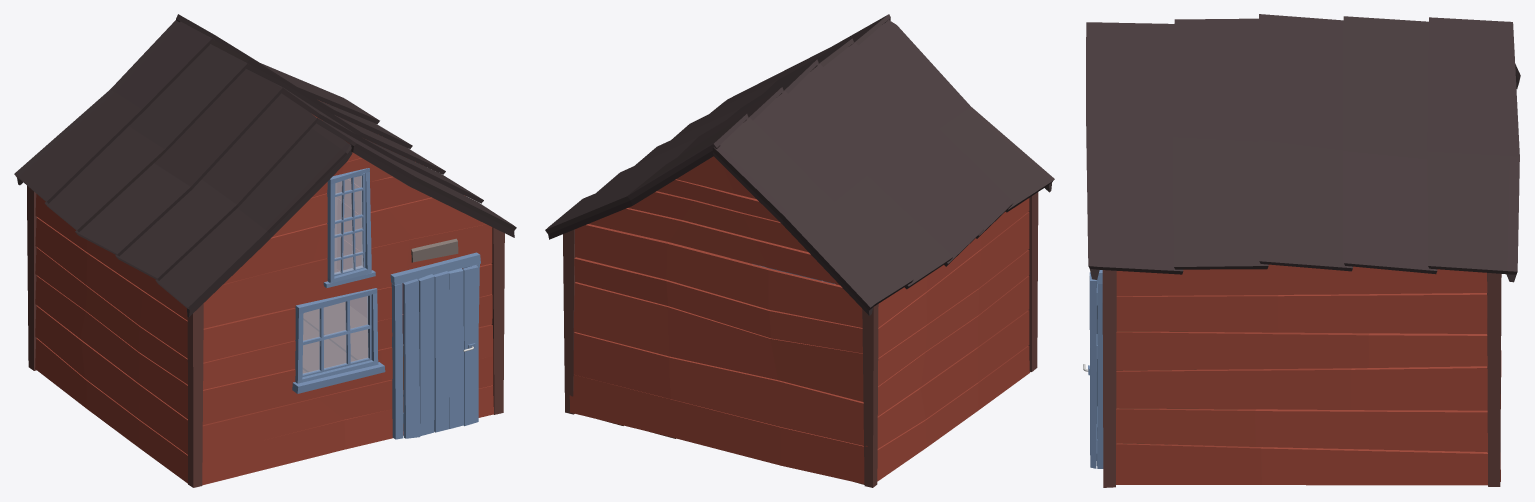
The model's file is WoodShack.fbx.
3 renders of one model, left to right at view 1: azimuth 30°, elevation 25°; view 2: azimuth 150°, elevation 25°; view 3: azimuth 270°, elevation 25°, orthographic. The views are drawn at different scales.
Visible parts, largest first — view 1: roof, woodFront, woodSides, Door, pilars, glass Bottom, woodSides.001, Cube.002, Cube.003, glassTop, Cube.005, Cube.007 (+3 smaller); view 2: woodBack, roof, woodSides, pilars; view 3: roof, woodSides, pilars, Door, Cube.002.
Boxes of the visible parts, left/top/right/bottom form: roof: left=14, top=14, right=516, bottom=317; woodFront: left=202, top=152, right=493, bottom=485; woodSides: left=35, top=138, right=464, bottom=483; Door: left=403, top=265, right=478, bottom=438; pilars: left=27, top=183, right=504, bottom=487; glass Bottom: left=302, top=296, right=368, bottom=373; woodSides.001: left=303, top=302, right=403, bottom=430; Cube.002: left=390, top=252, right=480, bottom=439; Cube.003: left=295, top=288, right=378, bottom=383; glassTop: left=334, top=175, right=363, bottom=273; Cube.005: left=327, top=168, right=371, bottom=283; Cube.007: left=334, top=173, right=365, bottom=276; woodBack: left=569, top=156, right=867, bottom=483; roof: left=545, top=14, right=1054, bottom=315; woodSides: left=712, top=198, right=1030, bottom=481; pilars: left=563, top=192, right=1038, bottom=487; roof: left=1086, top=14, right=1520, bottom=282; woodSides: left=1116, top=264, right=1487, bottom=485; pilars: left=1102, top=270, right=1501, bottom=487; Door: left=1088, top=272, right=1097, bottom=468; Cube.002: left=1097, top=270, right=1103, bottom=468.
Bounding box in the file's own units: 544 × 493 × 507.
